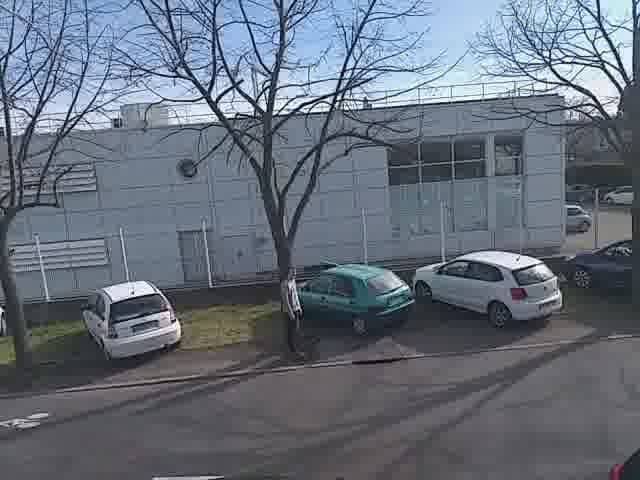persona: (271, 262, 306, 367)
